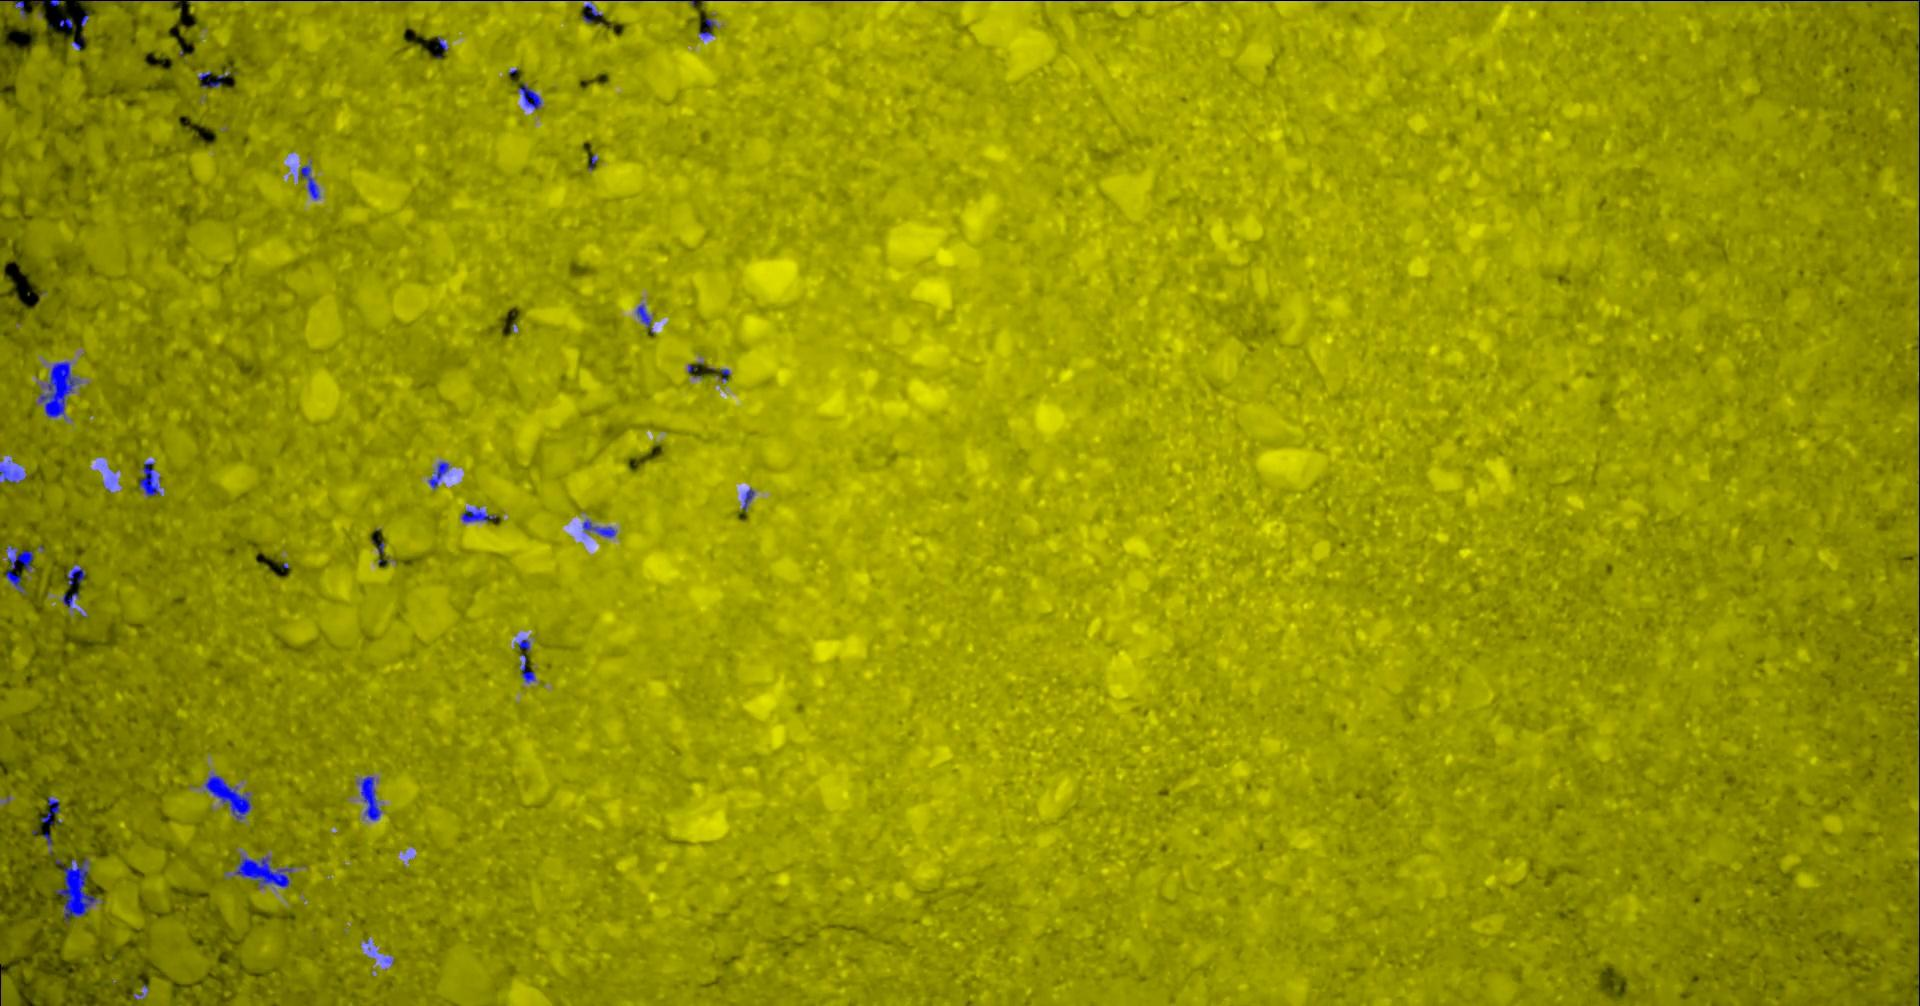ant: (204, 774, 250, 819), (234, 856, 293, 887), (4, 544, 33, 594), (357, 776, 380, 821), (138, 462, 160, 495), (298, 165, 319, 199), (517, 83, 541, 109), (582, 520, 615, 537), (0, 460, 25, 481), (428, 461, 448, 488), (461, 507, 497, 522), (41, 796, 58, 824), (519, 653, 535, 682), (201, 72, 229, 86), (582, 3, 601, 22), (66, 567, 85, 584), (698, 17, 715, 37), (636, 304, 650, 326), (9, 0, 25, 18), (742, 488, 754, 511), (62, 591, 79, 607), (58, 17, 72, 28)
